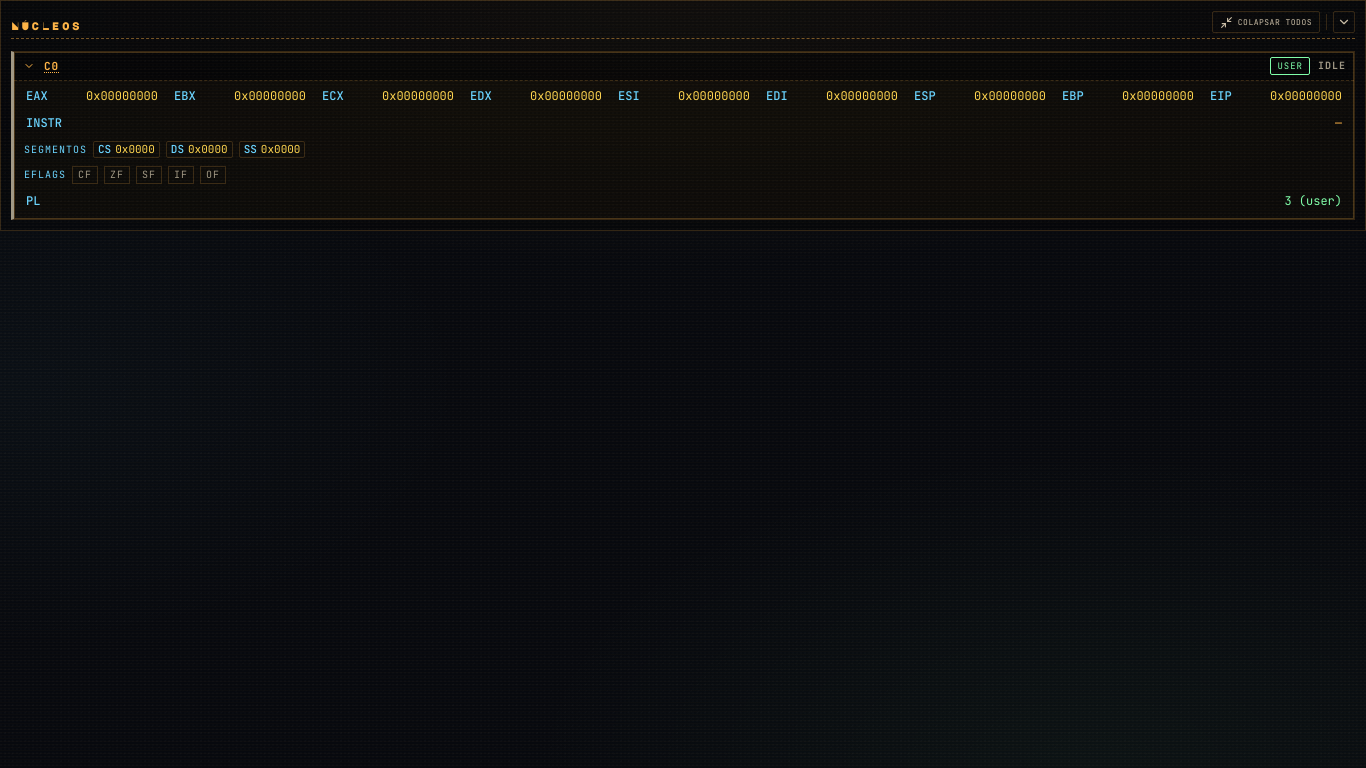
Test: CpuPanel explanations › shows the explanation inline on touch devices instead of opening the glossary
Click the element showing "EAX 0x00000000": {"x": 92, "y": 97} x1=24 y1=87 x2=160 y2=106
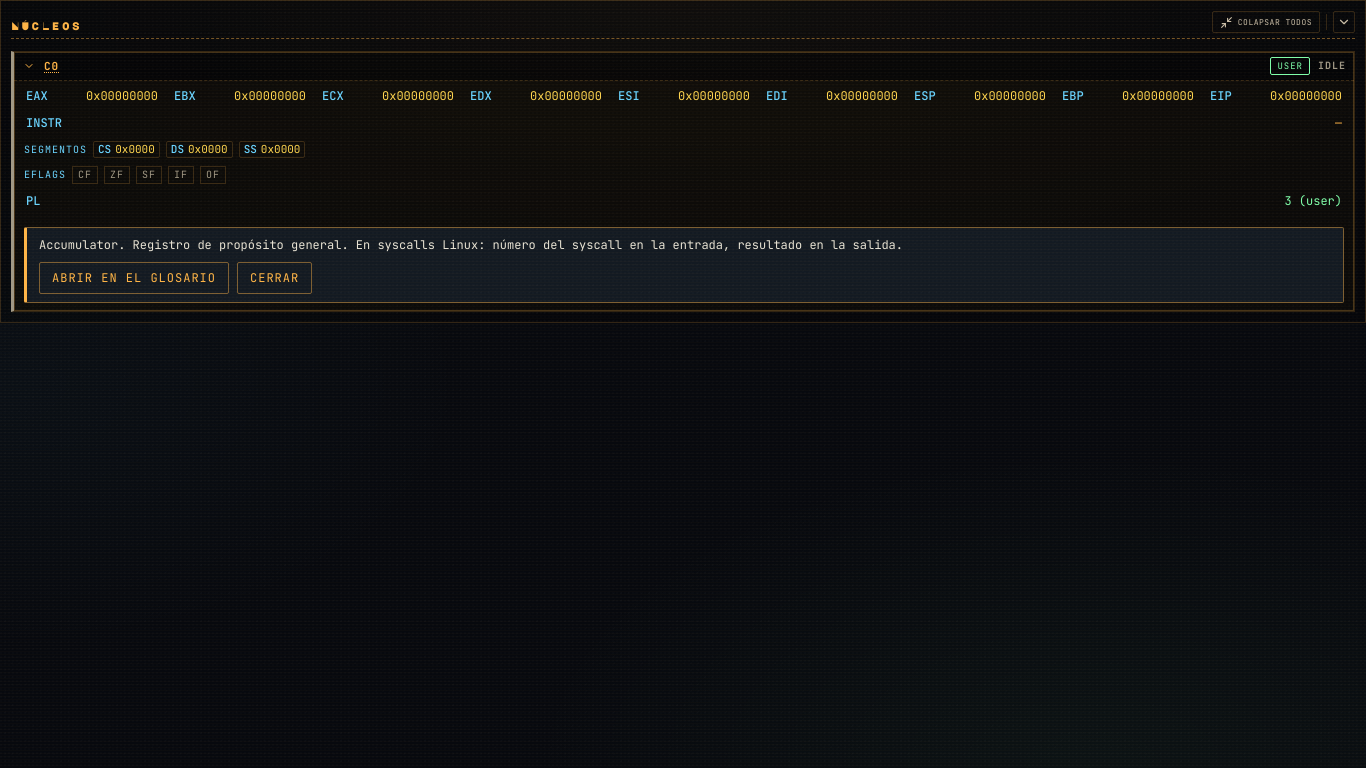
Result: the message with test id "cpu-tip" shows "Accumulator. Registro de propósito general. En syscalls Linux: número del syscall en la entrada, resultado en la salida." at x1=39 y1=237 x2=903 y2=253
